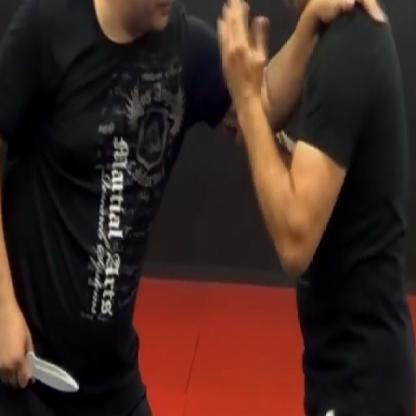knife: (0, 332, 83, 402)
